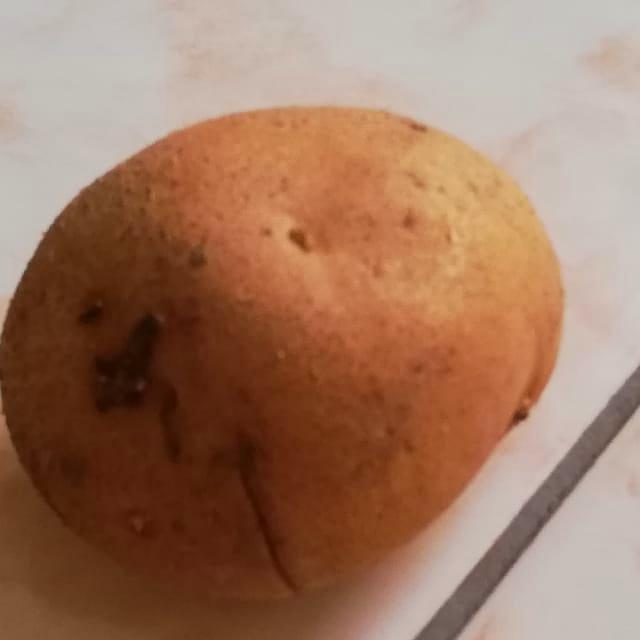potato: (0, 69, 581, 612)
